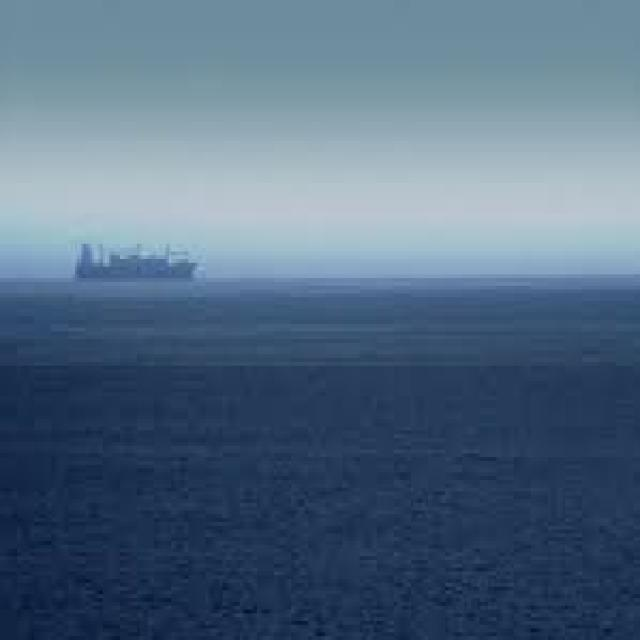cargoship: (63, 225, 190, 299)
